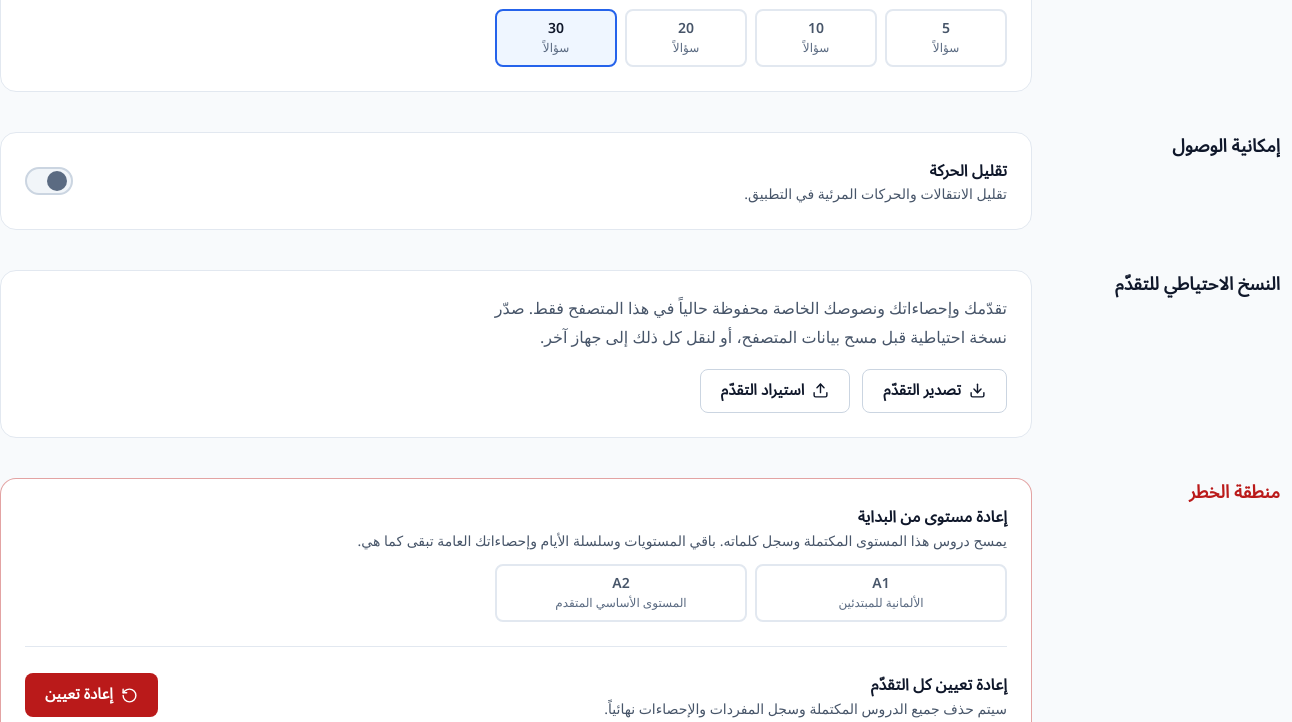
SettingsPage — danger zone › starts one level over without touching the others or the statistics
(page scrolled)
Click the radio button labelled "A1 الألمانية للمبتدئين" at {"x": 881, "y": 593}, box [755,564,1007,622]
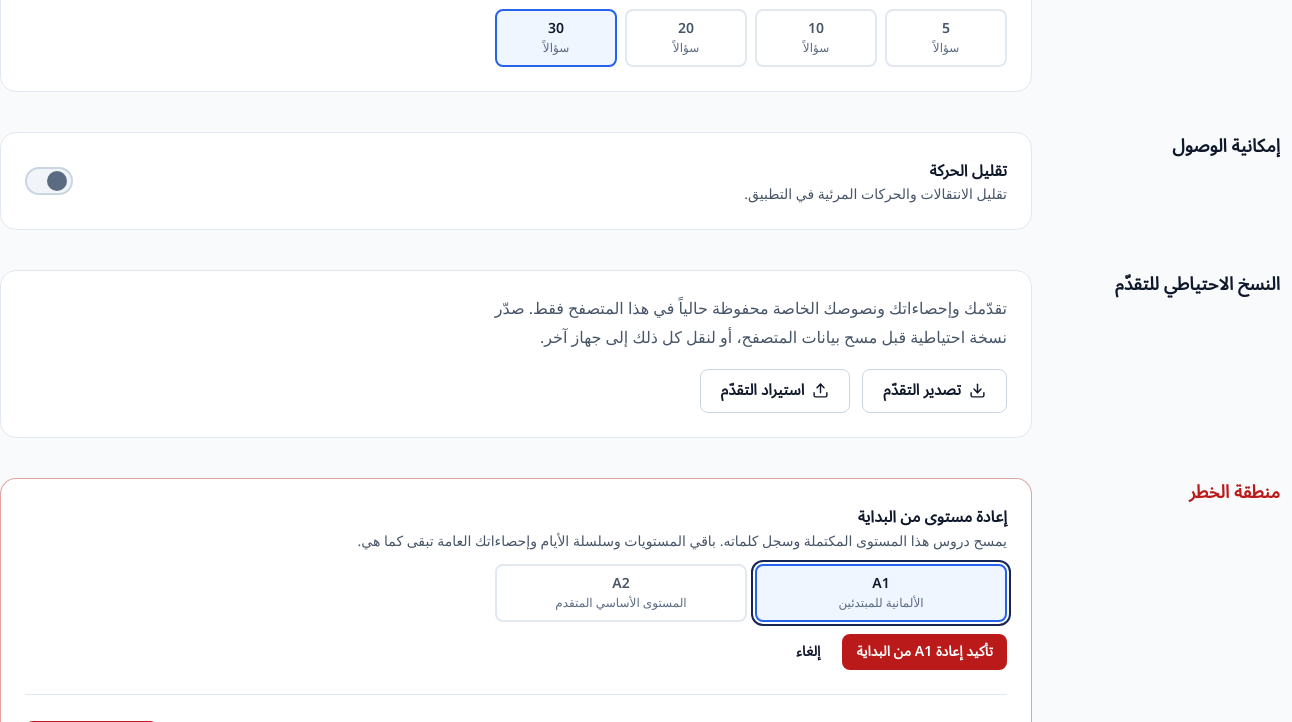
Click the button "تأكيد إعادة A1 من البداية" at {"x": 925, "y": 652}, box [842,634,1007,670]
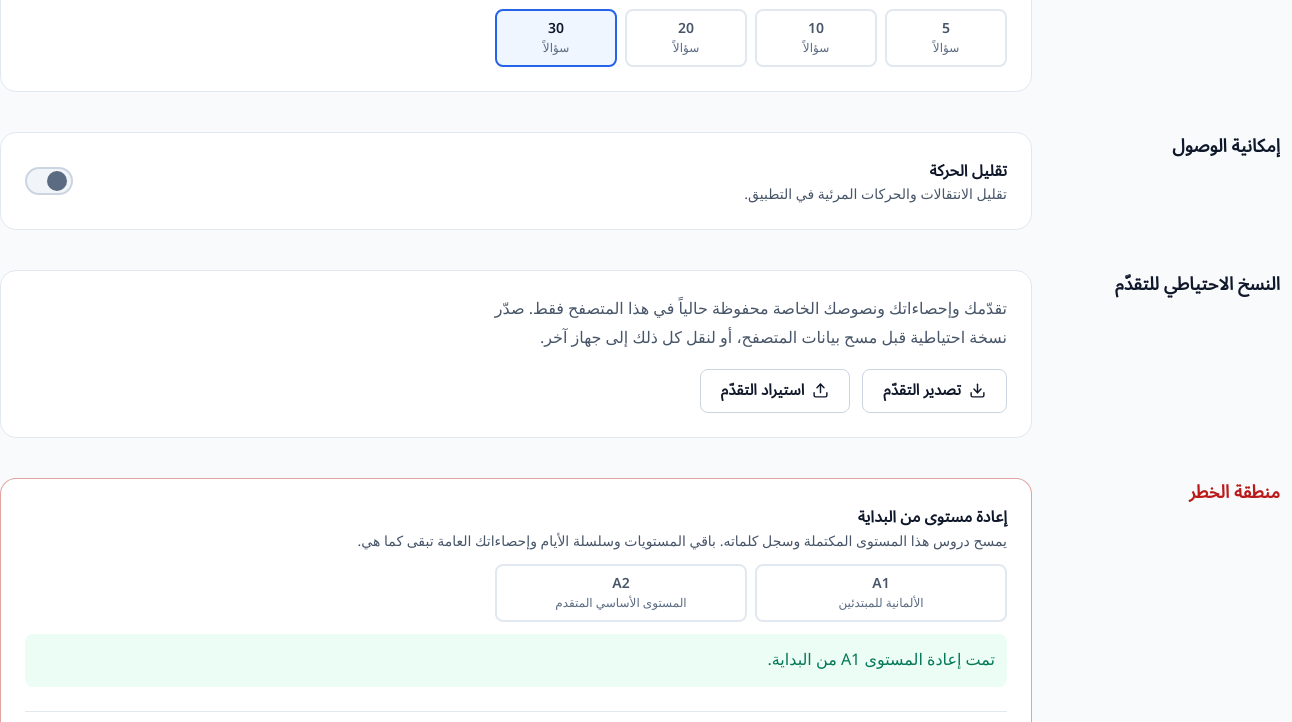
Check: the text "تمت إعادة المستوى A1 من البداية." is shown, box [25,634,1007,687]
